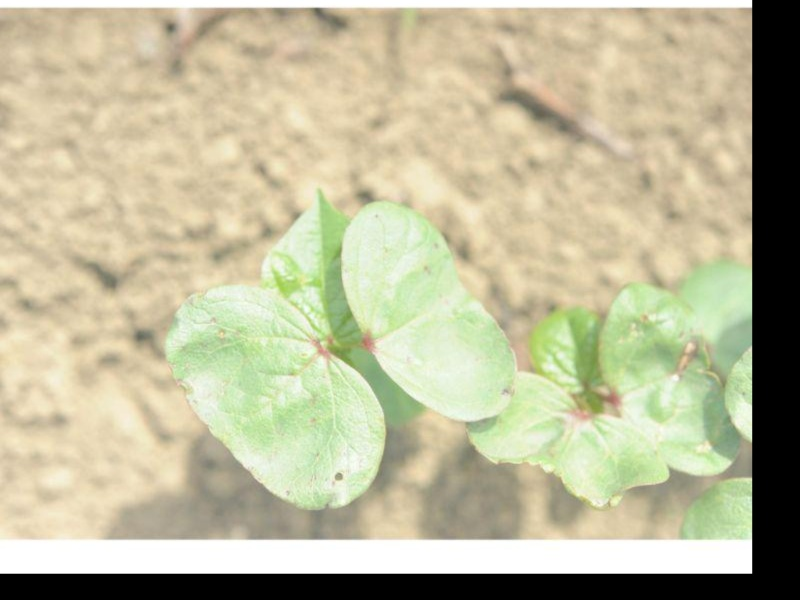cotton: (165, 184, 515, 508), (467, 260, 752, 507)
